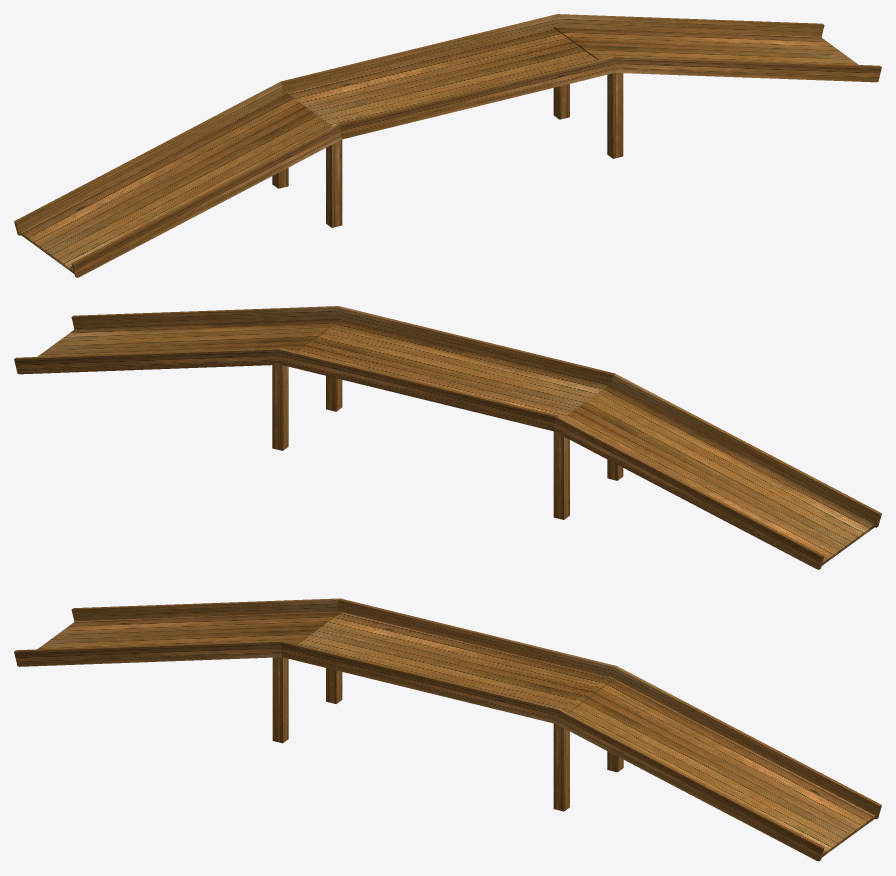
File: 5S_24Side.FBX
The picture shows the model from 3 angles, top to bottom: view 1: azimuth 30°, elevation 25°; view 2: azimuth 150°, elevation 25°; view 3: azimuth 330°, elevation 25°; orthographic projection.
Parts seen in each view (by area): view 1: 5S_24slide1_06; view 2: 5S_24slide1_06; view 3: 5S_24slide1_06.
Boxes of the visible parts, x1,y1,x2,y2 form: 5S_24slide1_06: (14, 14, 881, 277); 5S_24slide1_06: (14, 306, 881, 569); 5S_24slide1_06: (14, 598, 881, 861).
Size of the model in its own units: 11.74 by 1.4 by 1.5.
1 material, 1 textured.
